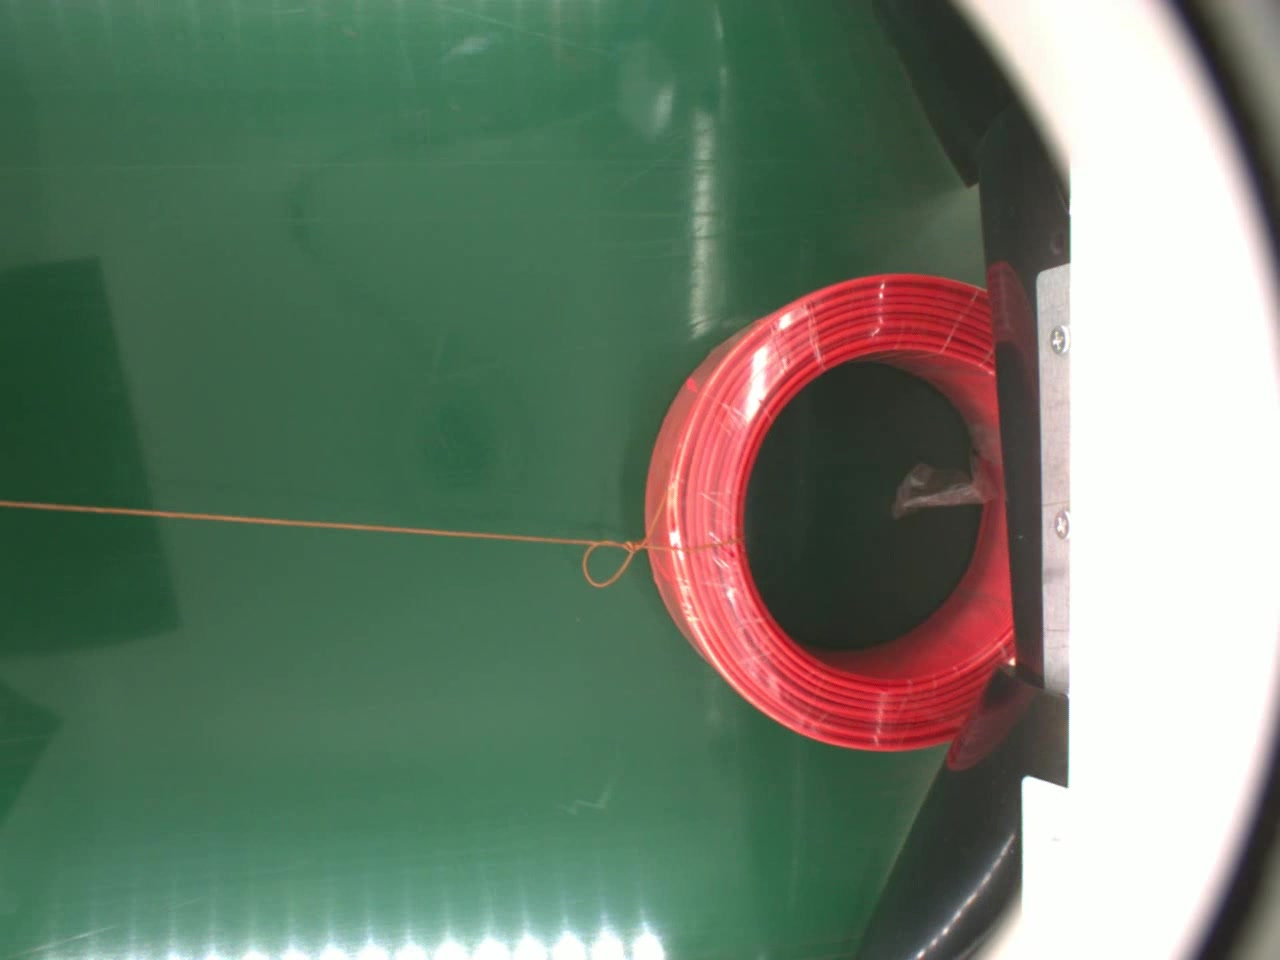red: (641, 272, 1009, 749)
